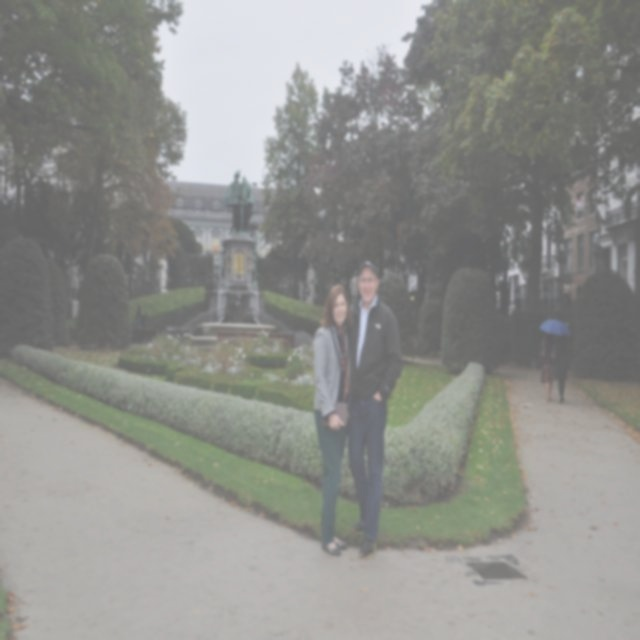pessoa: (346, 258, 404, 558), (313, 283, 356, 557), (222, 170, 256, 235), (538, 332, 556, 402), (553, 334, 569, 404), (66, 256, 80, 302), (154, 252, 169, 294), (252, 232, 260, 286), (306, 261, 316, 301), (350, 268, 360, 308), (220, 248, 226, 283), (136, 300, 142, 330)
